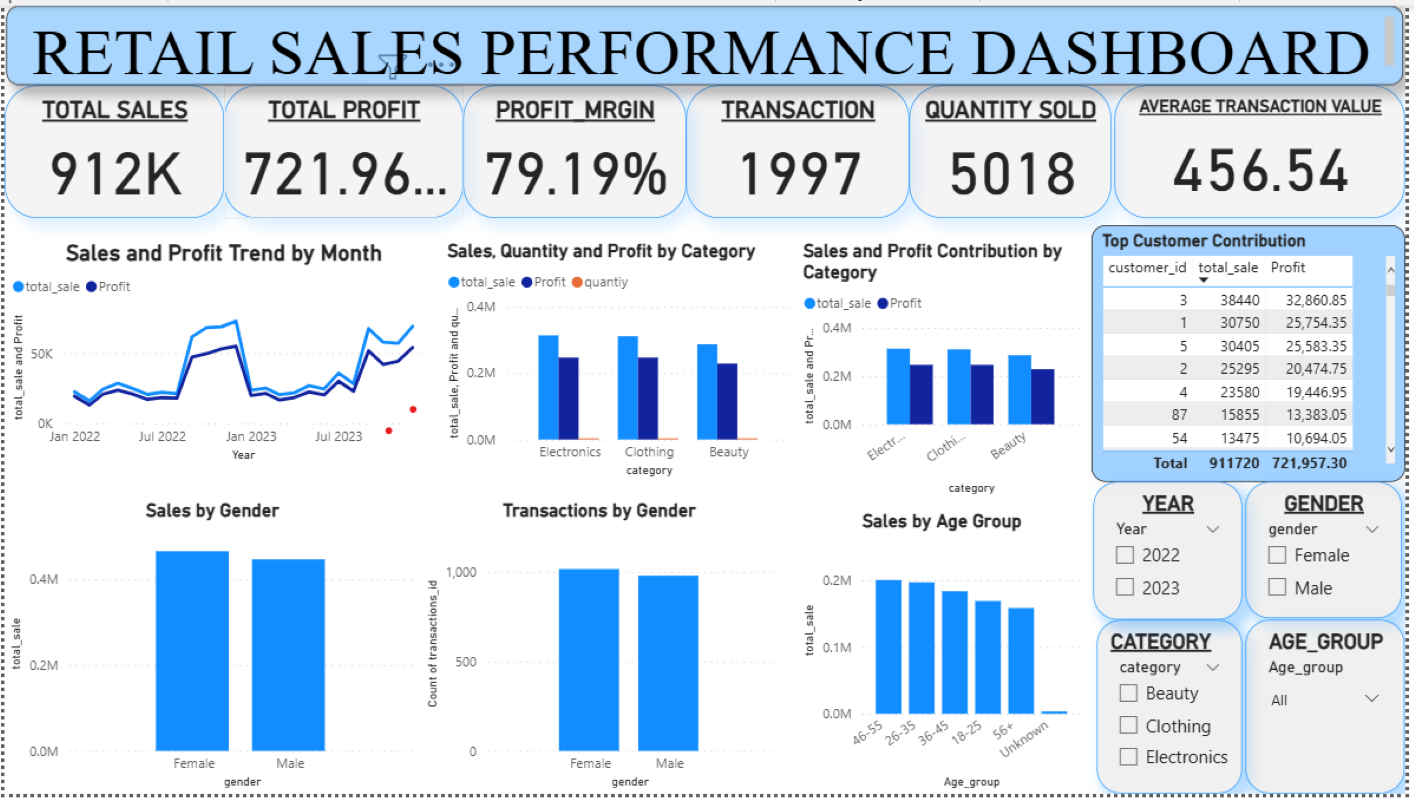

Layout of this report page (visuals, bound fields, positions):
{"tool":"powerbi","page":{"name":"RETAIL SALES INTERACTIVE DASHBOARD ","canvas":[1280,720],"ordinal":0},"visuals":[{"type":"card","title":"TOTAL SALES ","fields":{"Values":["Sum(Retail_Sales_cleaned.total_sale)"]},"box":[0,72.8,200.6,121.3],"z":0},{"type":"card","title":"TOTAL PROFIT ","fields":{"Values":["Sum(Retail_Sales_cleaned.Profit)"]},"box":[200.6,72.8,218.4,121.3],"z":1000},{"type":"card","title":"TRANSACTION","fields":{"Values":["CountNonNull(Retail_Sales_cleaned.transactions_id)"]},"box":[622.9,72.8,203.9,121.3],"z":2000},{"type":"card","title":"QUANTITY SOLD","fields":{"Values":["Sum(Retail_Sales_cleaned.quantiy)"]},"box":[826.8,72.8,184.4,121.3],"z":3000},{"type":"lineChart","title":"Sales and Profit Trend by period","fields":{"Y":["Sum(Retail_Sales_cleaned.total_sale)","Sum(Retail_Sales_cleaned.Profit)"],"Category":["Retail_Sales_cleaned.sale_date.Variation.Date Hierarchy.Year","Retail_Sales_cleaned.sale_date.Variation.Date Hierarchy.Month"]},"box":[1.6,213.6,398,207.1],"z":4000},{"type":"clusteredColumnChart","title":"Sales, Quantity and Profit by Category","fields":{"Category":["Retail_Sales_cleaned.category"],"Y":["Sum(Retail_Sales_cleaned.total_sale)","Sum(Retail_Sales_cleaned.Profit)","Sum(Retail_Sales_cleaned.quantiy)"]},"box":[399.6,213.6,325.2,221.7],"z":5000},{"type":"clusteredColumnChart","title":"Sales by Gender","fields":{"Category":["Retail_Sales_cleaned.gender"],"Y":["Sum(Retail_Sales_cleaned.total_sale)"]},"box":[0,451.4,380.2,268.6],"z":6000},{"type":"clusteredColumnChart","title":"Transactions by Gender","fields":{"Category":["Retail_Sales_cleaned.gender"],"Y":["CountNonNull(Retail_Sales_cleaned.transactions_id)"]},"box":[380.2,451.4,326.8,268.6],"z":7000},{"type":"clusteredColumnChart","title":"Sales by Age Group","fields":{"Category":["Retail_Sales_cleaned.Age_group"],"Y":["Sum(Retail_Sales_cleaned.total_sale)"]},"box":[724.9,461.1,263.7,258.9],"z":8000},{"type":"clusteredColumnChart","title":"Sales and Profit Contribution by Category","fields":{"Category":["Retail_Sales_cleaned.category"],"Y":["Sum(Retail_Sales_cleaned.total_sale)","Sum(Retail_Sales_cleaned.Profit)"]},"box":[724.9,213.6,263.7,237.8],"z":9000},{"type":"card","title":"AVERAGE TRANSACTION VALUE","fields":{"Values":["Avg(Retail_Sales_cleaned.total_sale)"]},"box":[1014.5,72.8,265.3,121.3],"z":10000},{"type":"tableEx","title":"Top Customer Contribution","fields":{"Values":["Retail_Sales_cleaned.customer_id","Sum(Retail_Sales_cleaned.total_sale)","Sum(Retail_Sales_cleaned.Profit)"]},"box":[993.4,197.4,286.4,234.6],"z":11000},{"type":"slicer","title":"CATEGORY","fields":{"Values":["Retail_Sales_cleaned.category"]},"box":[998.3,561.4,132.7,158.6],"z":12000},{"type":"slicer","title":"YEAR","fields":{"Values":["Retail_Sales_cleaned.sale_date.Variation.Date Hierarchy.Year"]},"box":[995.1,435.2,135.9,126.2],"z":13000},{"type":"slicer","title":"GENDER","fields":{"Values":["Retail_Sales_cleaned.gender"]},"box":[1134.2,435.2,142.4,124.6],"z":14000},{"type":"slicer","title":"AGE_GROUP","fields":{"Values":["Retail_Sales_cleaned.Age_group"]},"box":[1134.2,561.4,145.6,158.6],"z":15000},{"type":"card","title":"PROFIT_MRGIN","fields":{"Values":["Retail_Sales_cleaned.Profit divided by total_sale"]},"box":[419.1,72.8,203.9,121.3],"z":16000},{"type":"textbox","box":[1.6,0,1276.6,72.8],"z":17000}]}

Visuals, with their boxes in screenshot pixels (x1, y1, x2, y2), scaled from the page's 1280x720 canvas onto the 1414x800 screenshot:
"TOTAL SALES " card: [0, 81, 222, 216]
"TOTAL PROFIT " card: [222, 81, 463, 216]
"TRANSACTION" card: [688, 81, 913, 216]
"QUANTITY SOLD" card: [913, 81, 1117, 216]
"Sales and Profit Trend by period" lineChart: [2, 237, 441, 467]
"Sales, Quantity and Profit by Category" clusteredColumnChart: [441, 237, 801, 484]
"Sales by Gender" clusteredColumnChart: [0, 502, 420, 799]
"Transactions by Gender" clusteredColumnChart: [420, 502, 781, 799]
"Sales by Age Group" clusteredColumnChart: [801, 512, 1092, 799]
"Sales and Profit Contribution by Category" clusteredColumnChart: [801, 237, 1092, 502]
"AVERAGE TRANSACTION VALUE" card: [1121, 81, 1413, 216]
"Top Customer Contribution" tableEx: [1097, 219, 1413, 480]
"CATEGORY" slicer: [1103, 624, 1249, 799]
"YEAR" slicer: [1099, 484, 1249, 624]
"GENDER" slicer: [1253, 484, 1410, 622]
"AGE_GROUP" slicer: [1253, 624, 1413, 799]
"PROFIT_MRGIN" card: [463, 81, 688, 216]
textbox: [2, 0, 1412, 81]
